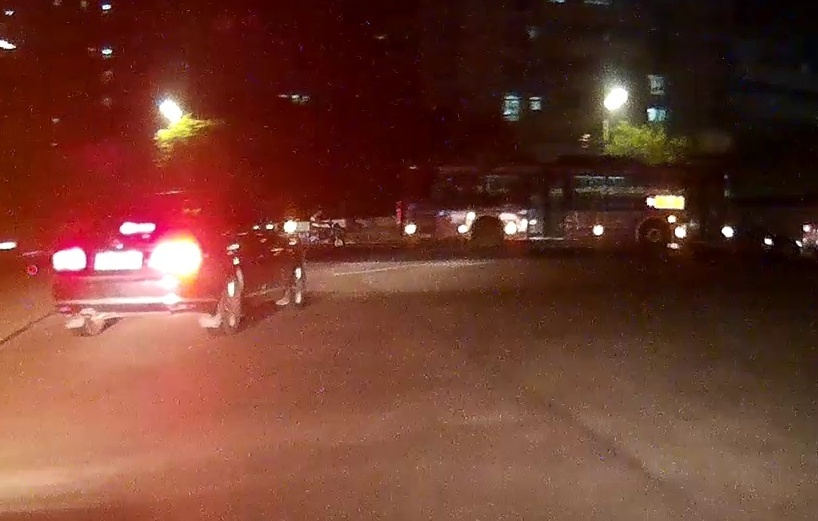L_light: (52, 247, 86, 271)
R_light: (147, 237, 202, 273)
T_light: (119, 222, 155, 233)
night-brake: (49, 191, 224, 336)
